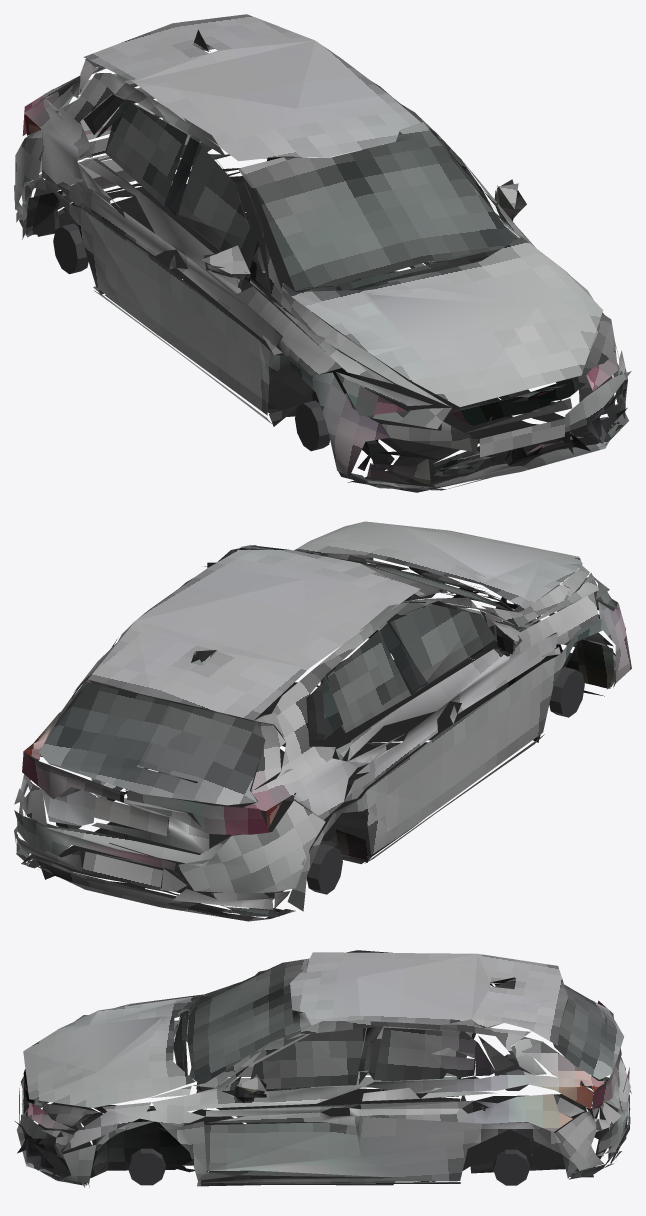
File: kompakt_f.glb
3 views of the same model, one above another, from view 1: azimuth 30°, elevation 25°; view 2: azimuth 150°, elevation 25°; view 3: azimuth 270°, elevation 25° (orthographic). The views are drawn at different scales.
Visible parts, largest first — view 1: karosserie, rad_hl; view 2: karosserie, rad_hl; view 3: karosserie, rad_hl.
Part boxes in pixels (<box>): karosserie: <box>14,14,631,492</box>; rad_hl: <box>53,223,578,451</box>; karosserie: <box>14,521,631,921</box>; rad_hl: <box>56,667,584,894</box>; karosserie: <box>15,950,631,1187</box>; rad_hl: <box>128,1054,531,1185</box>.
Size of the model in its own units: 1.95 by 1.37 by 4.33.
Materials: 2 (1 with a texture image).
